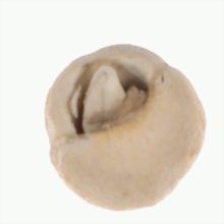L3: (69, 61, 156, 137)
L4: (44, 43, 207, 211)
